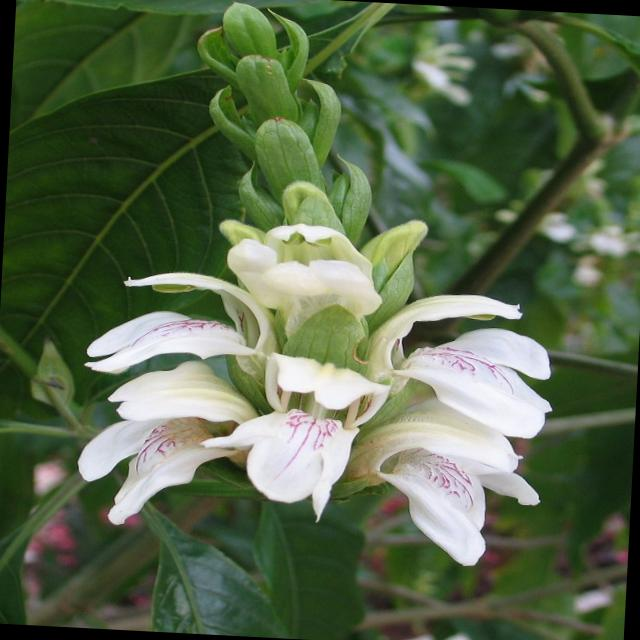Malabar Nut: (26, 4, 602, 612)
